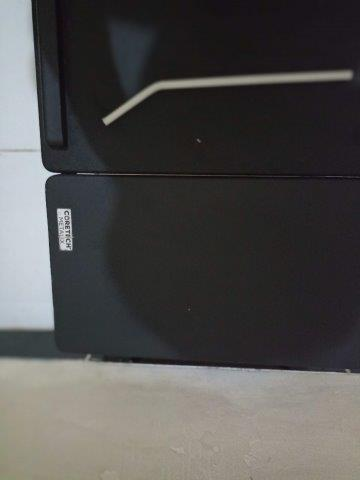sedotan: (103, 69, 352, 126)
